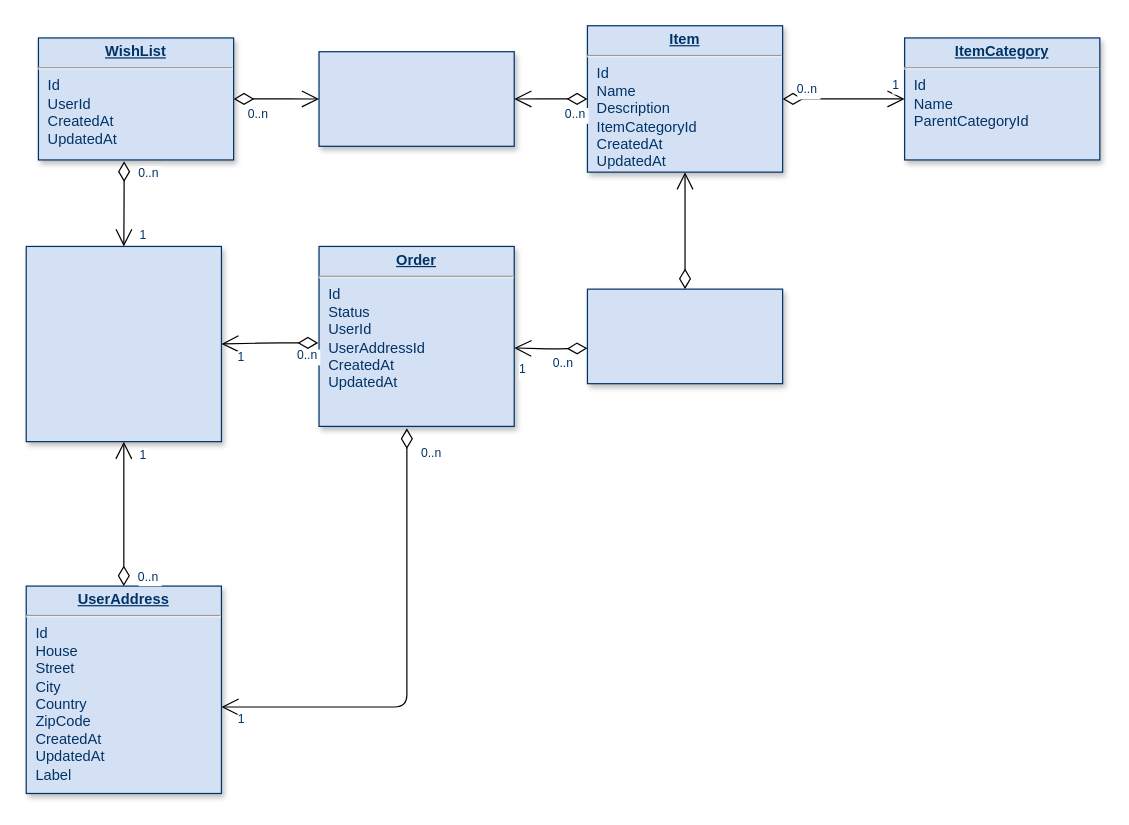
This 1129x825 diagram has some shape labels left out. The centre of each missing label's shape, as x and y in pixels:
"OrderItemSelection Id OrderId ItemId" goes at (685,337).
"User Id Name CreatedAt UpdatedAt Enabled" goes at (124,345).
"WishListItemSelection Id WishListId ItemId" goes at (417,100).
